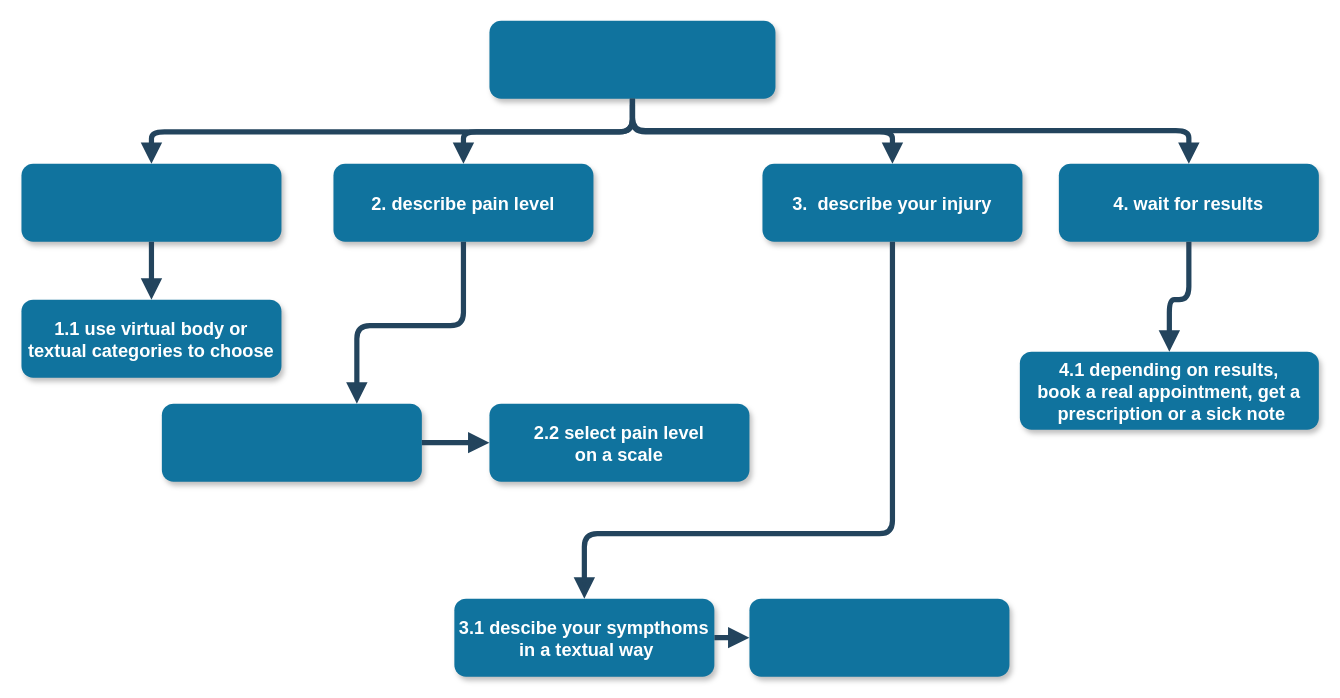
This 1340x698 diagram has some shape labels left out. Here are the shapes that lost their labels. From the top down, the centre of each, then its label:
[633,61]: 0. Start virtual examination
[152,204]: 1. choose body part
[292,444]: 2.1 choose between inner and outter pain
[880,639]: 3.2 use the camera to capture images or vidoes of your injury
